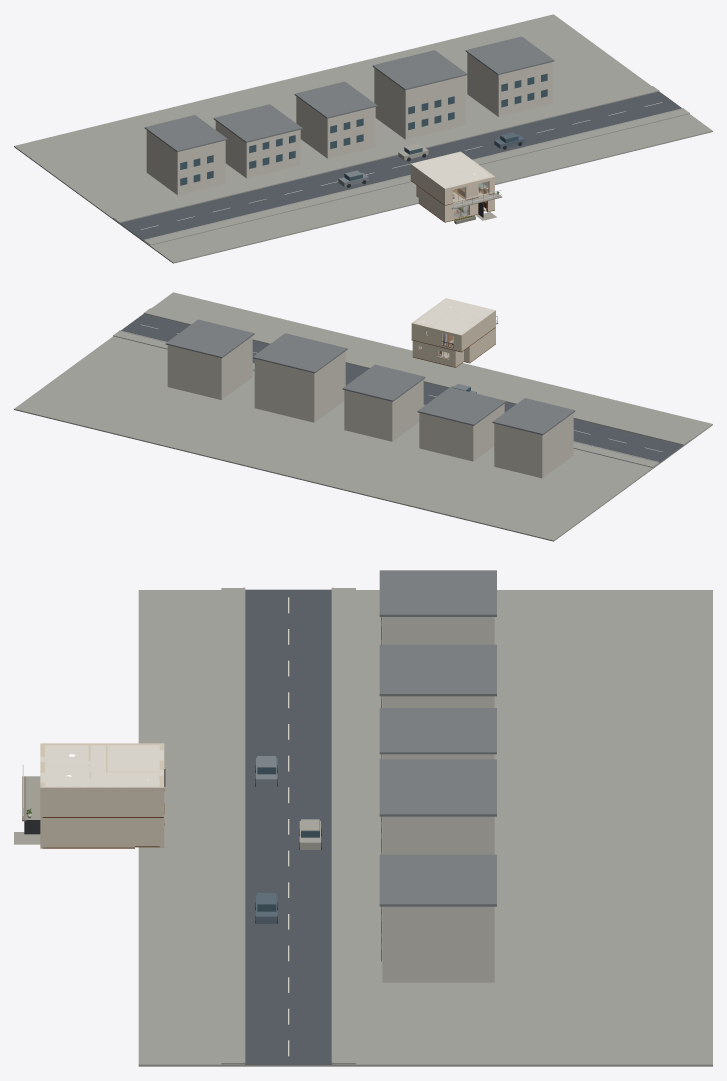
Rendered from reality-home_v2_3_candidate.glb.
The picture shows the model from 3 angles, top to bottom: view 1: azimuth 30°, elevation 25°; view 2: azimuth 150°, elevation 25°; view 3: azimuth 270°, elevation 25°; orthographic projection. The views are drawn at different scales.
Parts seen in each view (by area): view 1: RG-REAL-01-EX-003__street_ground, RG-REAL-01-EX-008__opposite_mass (×5), RG-REAL-01-EX-003__road, RG-REAL-01-EX-008__roof (×5), RG-REAL-01-EX-003__sidewalk (×2), RG-REAL-01-EX-003__curb (×2), plane.019, box.298, box; view 2: RG-REAL-01-EX-003__street_ground, RG-REAL-01-EX-008__opposite_mass (×5), RG-REAL-01-EX-008__roof (×5), RG-REAL-01-EX-003__road, RG-REAL-01-EX-003__sidewalk (×2), plane.019, box.298, RG-REAL-01-EX-003__curb, box; view 3: RG-REAL-01-EX-003__street_ground, RG-REAL-01-EX-003__road, RG-REAL-01-EX-008__roof (×5), RG-REAL-01-EX-003__sidewalk (×2), RG-REAL-01-EX-008__opposite_mass (×4), plane.019, box.326, RG-REAL-01-EX-003__curb (×2), box.022.
Boxes of the visible parts, x1=… form: RG-REAL-01-EX-003__street_ground: x1=14, y1=14, x2=712, y2=263; RG-REAL-01-EX-008__opposite_mass (×5): x1=146, y1=53, x2=552, y2=195; RG-REAL-01-EX-003__road: x1=120, y1=91, x2=681, y2=240; RG-REAL-01-EX-008__roof (×5): x1=144, y1=36, x2=554, y2=152; RG-REAL-01-EX-003__sidewalk (×2): x1=113, y1=86, x2=689, y2=245; RG-REAL-01-EX-003__curb (×2): x1=119, y1=90, x2=683, y2=240; plane.019: x1=411, y1=151, x2=494, y2=188; box.298: x1=410, y1=163, x2=444, y2=204; box: x1=418, y1=187, x2=444, y2=221; RG-REAL-01-EX-003__street_ground: x1=14, y1=292, x2=712, y2=541; RG-REAL-01-EX-008__opposite_mass (×5): x1=167, y1=336, x2=573, y2=478; RG-REAL-01-EX-008__roof (×5): x1=165, y1=319, x2=575, y2=435; RG-REAL-01-EX-003__road: x1=121, y1=314, x2=683, y2=462; RG-REAL-01-EX-003__sidewalk (×2): x1=113, y1=308, x2=689, y2=467; plane.019: x1=414, y1=298, x2=495, y2=334; box.298: x1=460, y1=311, x2=495, y2=351; RG-REAL-01-EX-003__curb: x1=143, y1=312, x2=683, y2=445; box: x1=467, y1=328, x2=495, y2=362; RG-REAL-01-EX-003__street_ground: x1=138, y1=590, x2=712, y2=1066; RG-REAL-01-EX-003__road: x1=245, y1=589, x2=331, y2=1064; RG-REAL-01-EX-008__roof (×5): x1=379, y1=570, x2=496, y2=906; RG-REAL-01-EX-003__sidewalk (×2): x1=221, y1=588, x2=355, y2=1064; RG-REAL-01-EX-008__opposite_mass (×4): x1=382, y1=617, x2=494, y2=982; plane.019: x1=40, y1=745, x2=163, y2=787; box.326: x1=42, y1=786, x2=163, y2=816; RG-REAL-01-EX-003__curb (×2): x1=243, y1=587, x2=333, y2=1064; box.022: x1=42, y1=818, x2=134, y2=847.
Bounding box in the file's own units: 90 × 8.41 × 56.
